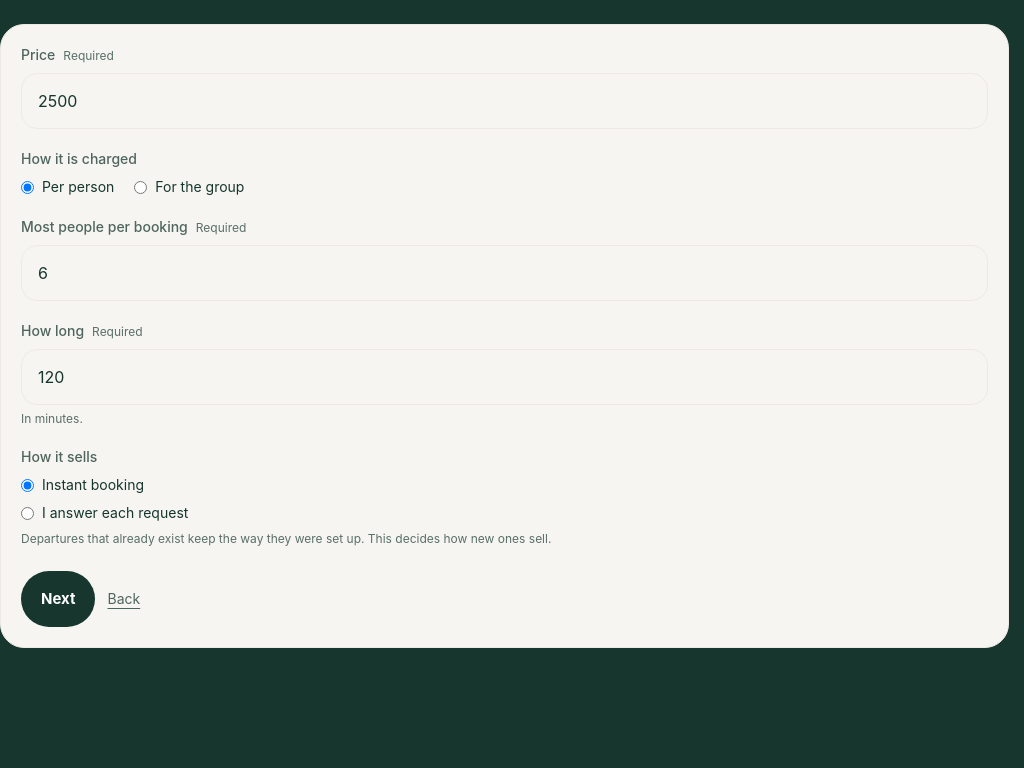
Test: a refused step › keeps Selling's choices and numbers
Step 1. Replace the text in the field labelled "Price" with "3000" → {"x": 504, "y": 101}, box [21,73,988,129]
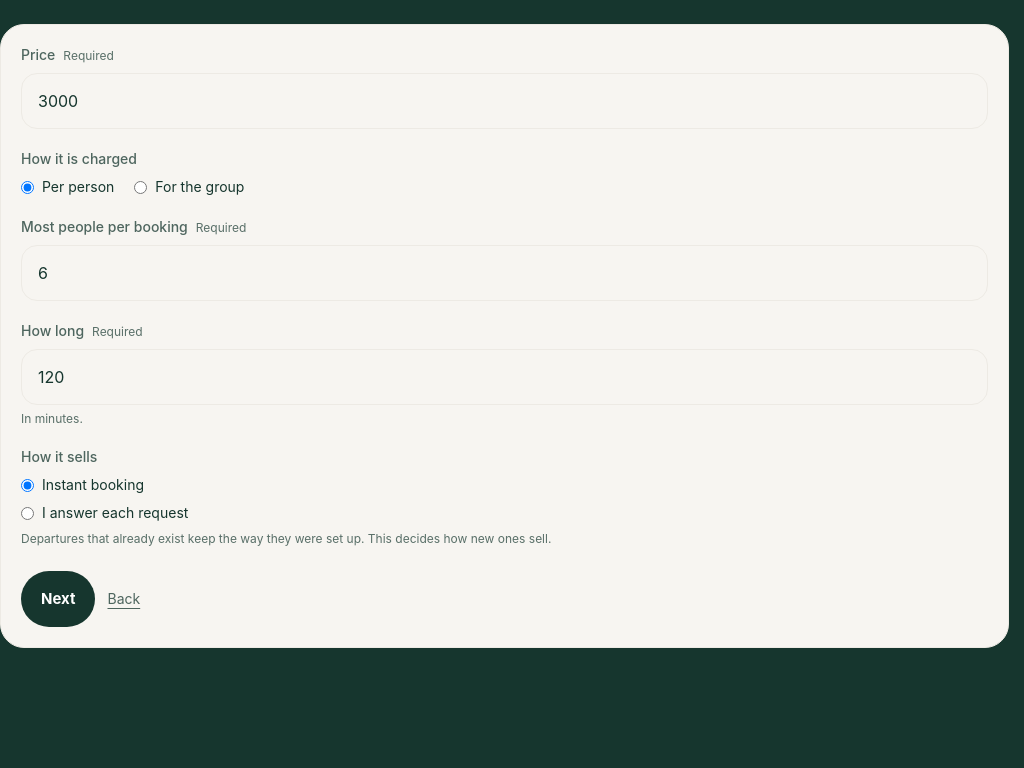
Step 2. Click the radio button labelled "For the group" → {"x": 141, "y": 187}, box [134,180,147,194]
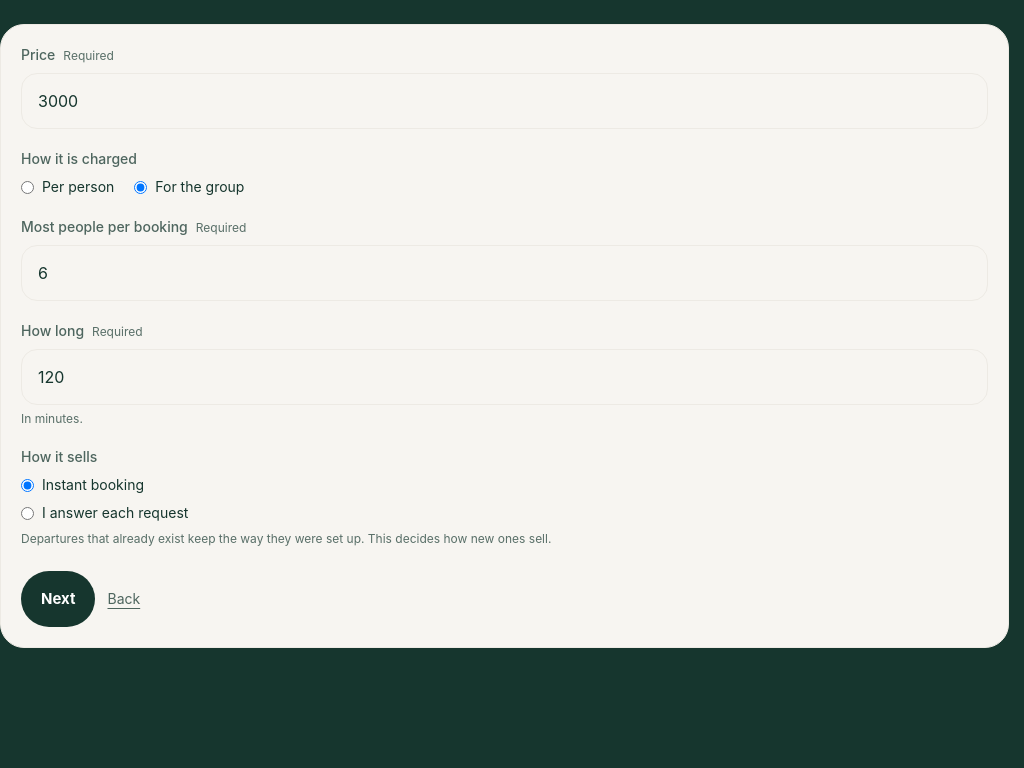
Step 3. Replace the text in the number field labelled "Most people per booking" with "8" → {"x": 504, "y": 273}, box [21,245,988,301]
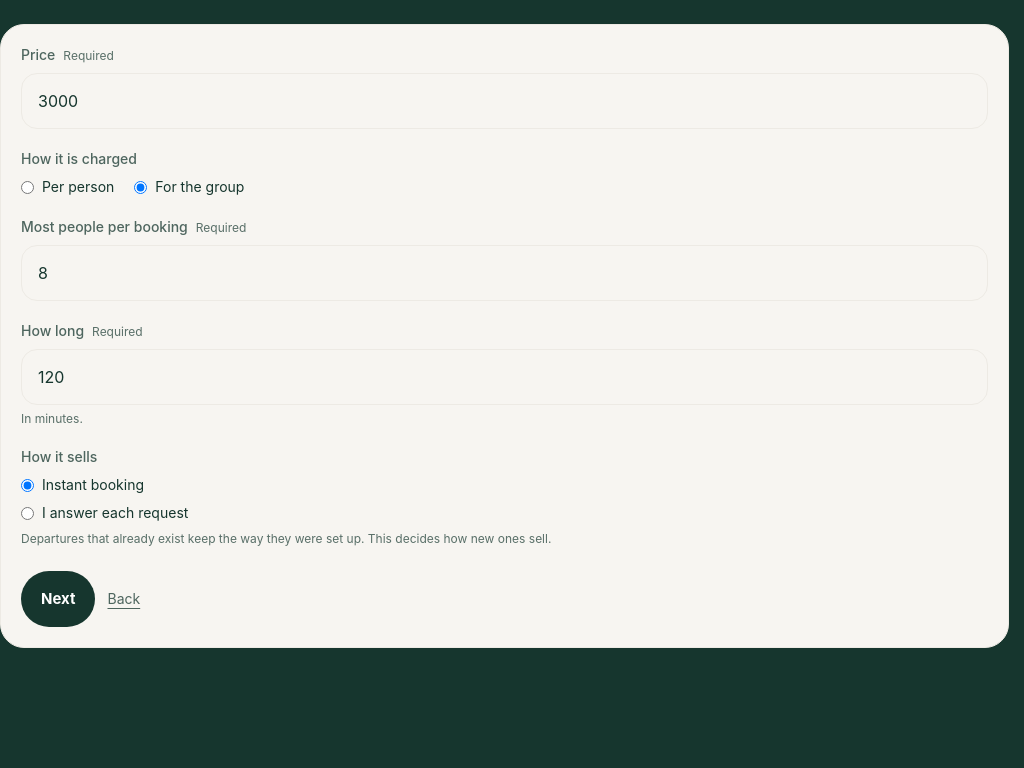
Step 4. Replace the text in the number field labelled "How long" with "90" → {"x": 504, "y": 377}, box [21,349,988,405]
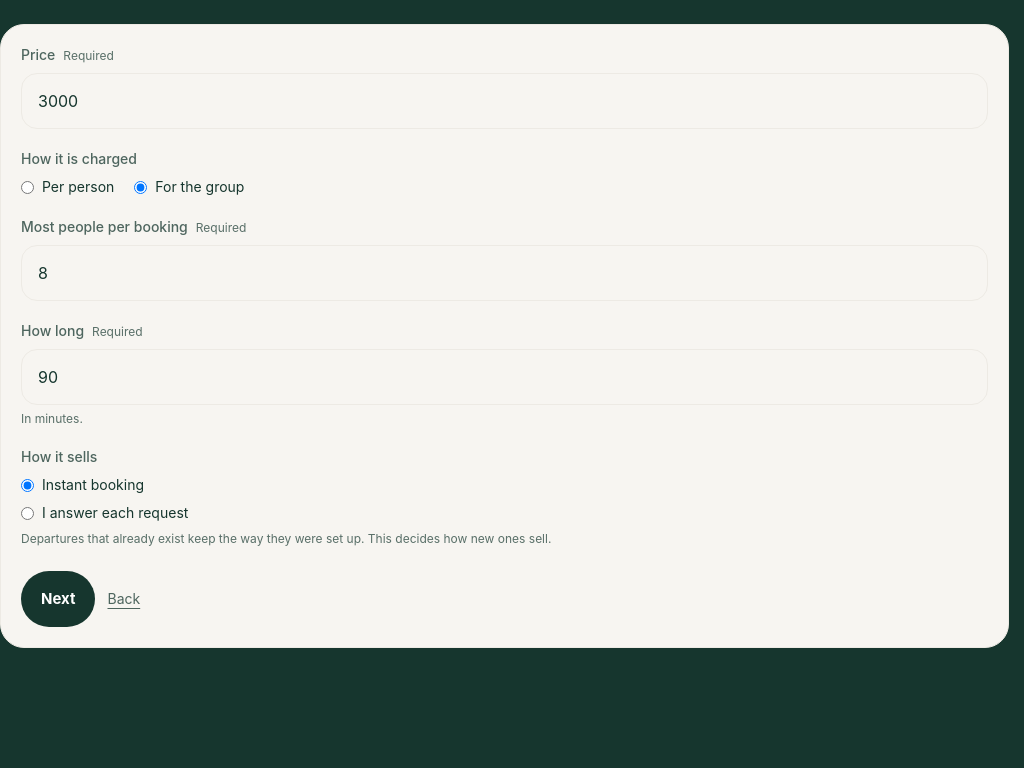
Step 5. Click the radio button labelled "I answer each request" → {"x": 28, "y": 513}, box [21,506,34,520]
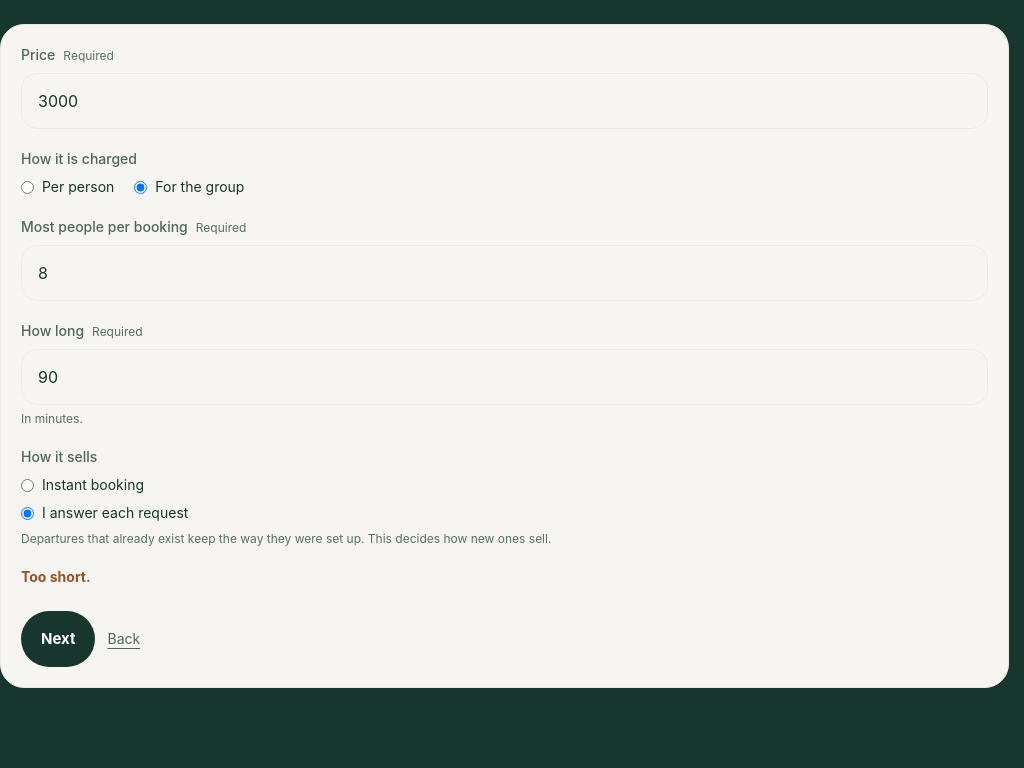
Check: the field labelled "Price" holds "3000", box [21,73,988,129]
Check: the radio button labelled "For the group" is checked, box [134,180,147,194]
Check: the text "Too short." is shown, box [21,568,91,585]
